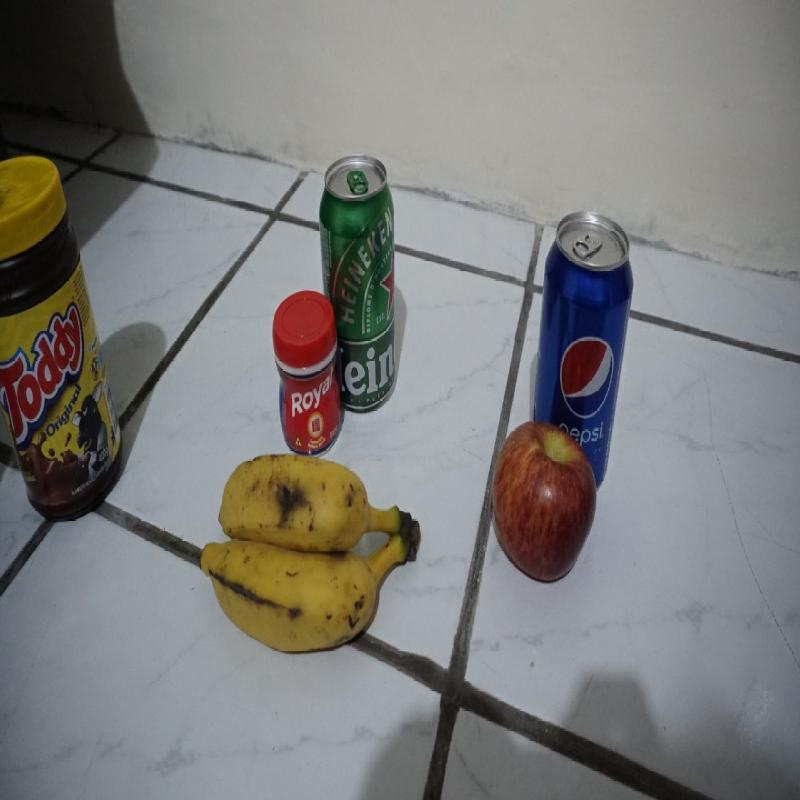Apple: (491, 420, 599, 580)
Banana: (198, 452, 422, 660)
Beer can: (317, 152, 397, 418)
Chocolate Powder: (0, 145, 123, 528)
Soda can: (532, 210, 638, 500)
Yeast: (272, 290, 342, 458)
